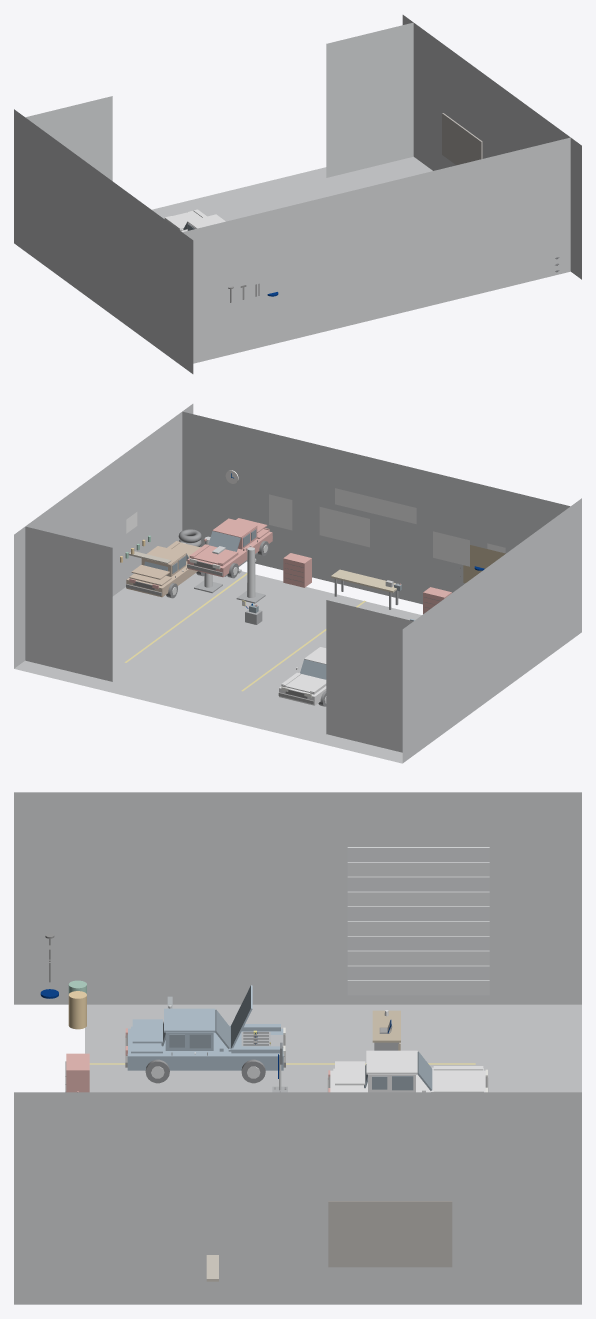
3 views of the same model, one above another, from view 1: azimuth 30°, elevation 25°; view 2: azimuth 150°, elevation 25°; view 3: azimuth 270°, elevation 25° (orthographic). The views are drawn at different scales.
Visible parts, largest first — view 1: object 5, object 6, object 7, object 9, object 1, object 8, object 82; view 2: object 5, object 1, object 6, object 7, object 9, object 8, object 70, object 10, car_4 (×2), object 65, tool_cabinet_2, object 11 (+3 smaller); view 3: object 7, object 6, object 1, object 82, car (×2), object 71, object 73, object 76, object 78, object 72, object 77, object 74 (+10 smaller).
Part boxes in pixels (bbox=[...]): object 5: bbox=[182, 137, 570, 363]; object 6: bbox=[14, 109, 193, 373]; object 7: bbox=[402, 15, 581, 279]; object 9: bbox=[326, 22, 413, 177]; object 1: bbox=[152, 156, 432, 221]; object 8: bbox=[25, 96, 112, 180]; object 82: bbox=[442, 113, 482, 165]; object 5: bbox=[182, 411, 570, 604]; object 1: bbox=[14, 571, 421, 763]; object 6: bbox=[402, 498, 581, 762]; object 7: bbox=[14, 404, 193, 668]; object 9: bbox=[25, 526, 112, 681]; object 8: bbox=[326, 600, 413, 752]; object 70: bbox=[319, 507, 369, 547]; object 10: bbox=[335, 488, 416, 523]; car_4 (×2): bbox=[187, 518, 272, 577]; object 65: bbox=[433, 531, 469, 566]; tool_cabinet_2: bbox=[283, 553, 311, 587]; object 11: bbox=[463, 545, 505, 583]; object 7: bbox=[14, 1092, 581, 1304]; object 6: bbox=[14, 792, 581, 1004]; object 1: bbox=[85, 1004, 581, 1092]; object 82: bbox=[328, 1201, 452, 1267]; car (×2): bbox=[127, 1008, 283, 1070]; object 71: bbox=[347, 980, 489, 995]; object 73: bbox=[347, 950, 489, 965]; object 76: bbox=[347, 906, 489, 921]; object 78: bbox=[347, 876, 489, 891]; object 72: bbox=[347, 965, 489, 980]; object 77: bbox=[347, 891, 489, 906]; object 74: bbox=[347, 936, 489, 950].
Bounding box in the file's own units: 21.6 × 6.6 × 16.
